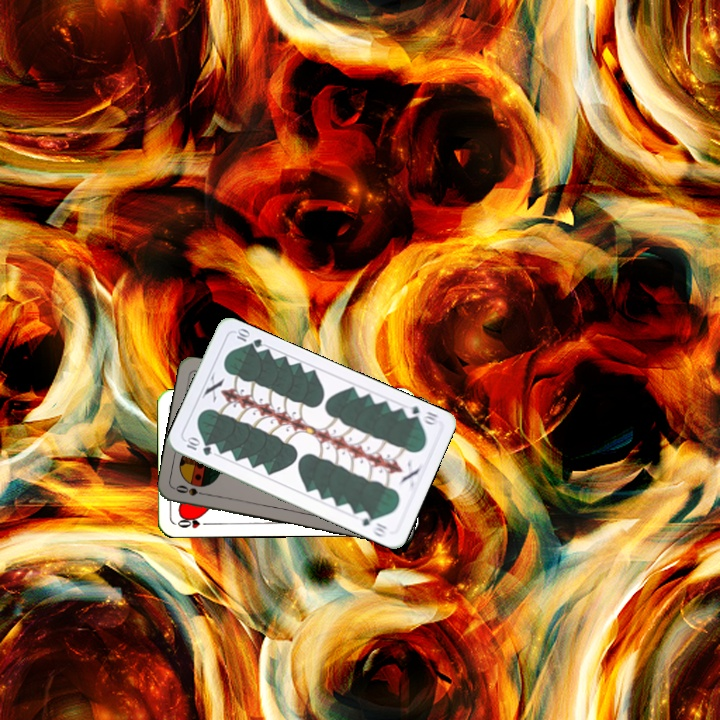G10: (400, 401, 441, 428), (182, 434, 214, 458)
HO: (174, 513, 213, 531)
SO: (172, 481, 212, 498)
